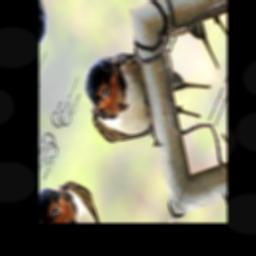Swallow: (70, 7, 212, 190)
